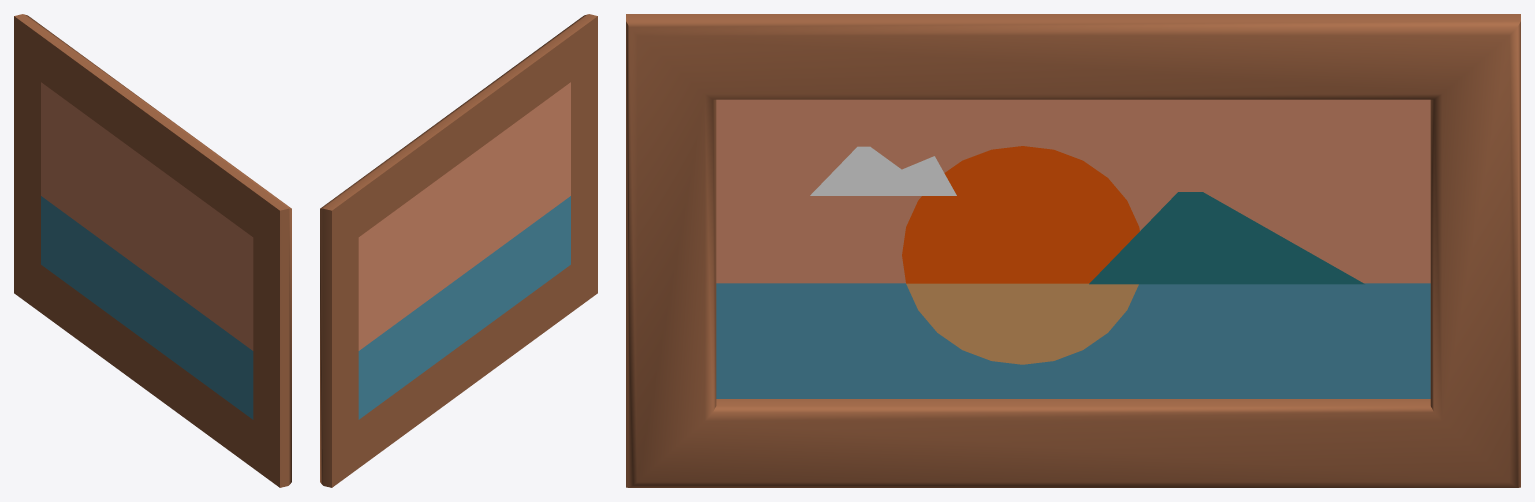
Rendered from Draw 01.fbx.
The picture shows the model from 3 angles, left to right: view 1: azimuth 30°, elevation 25°; view 2: azimuth 150°, elevation 25°; view 3: azimuth 270°, elevation 25°; orthographic projection. The views are drawn at different scales.
Visible parts, largest first — view 1: Cube.026; view 2: Cube.026; view 3: Cube.026, Circle, Plane, Plane.001.
Boxes of the visible parts, x1,y1,x2,y2 form: Cube.026: (14,14,291,487); Cube.026: (320,14,597,487); Cube.026: (626,14,1520,487); Circle: (902,146,1139,364); Plane: (1089,192,1364,284); Plane.001: (810,146,956,195).
Bounding box in the file's own units: 1.25 × 22.97 × 39.94.
